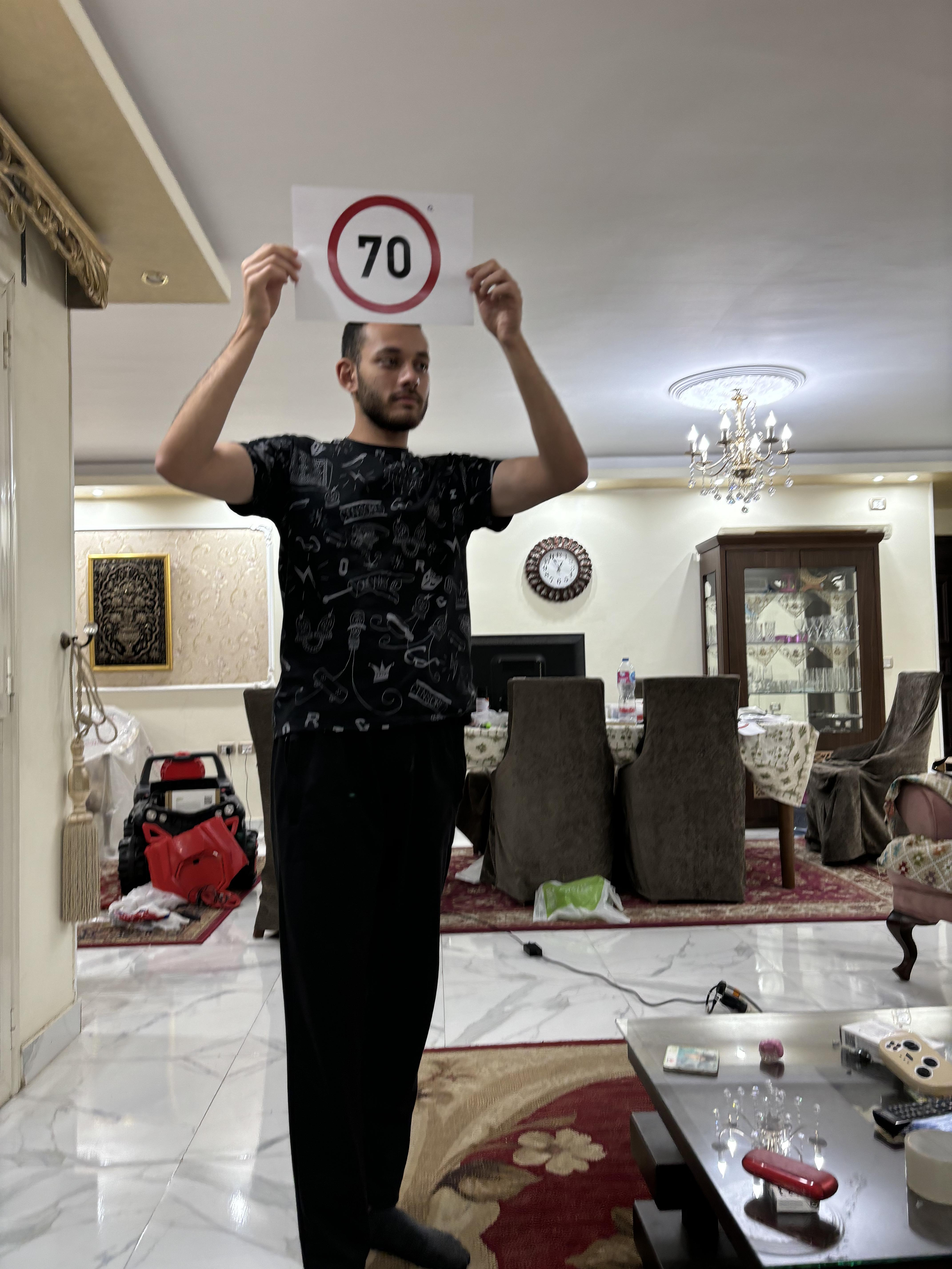70-Speed: (323, 189, 440, 308)
